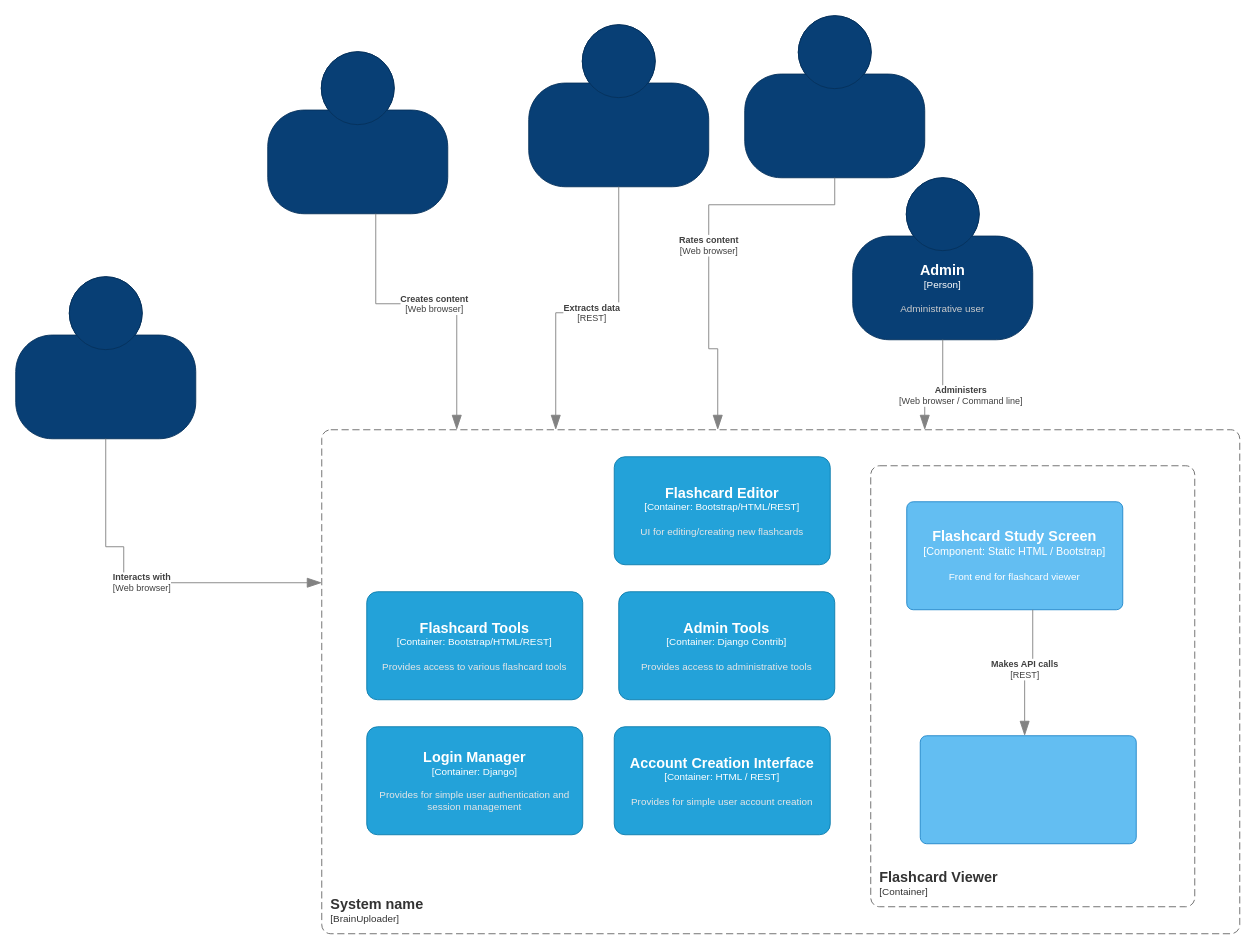
Image size: 1256x950. Some labels were removed from this diagram. The centre of each missing label's shape, as x and y in pixels:
AI Researcher [Person] One who accesses flashcard data: [618,105]
Critic [Person] One who rates flashcards: [834,96]
Extended CRUD API [Component: Django / REST] API calls for handling flashcards: [1027,789]
Instructor [Person] One who creates flashcards: [357,132]
Student [Person] One who reviews flashcards: [105,357]
